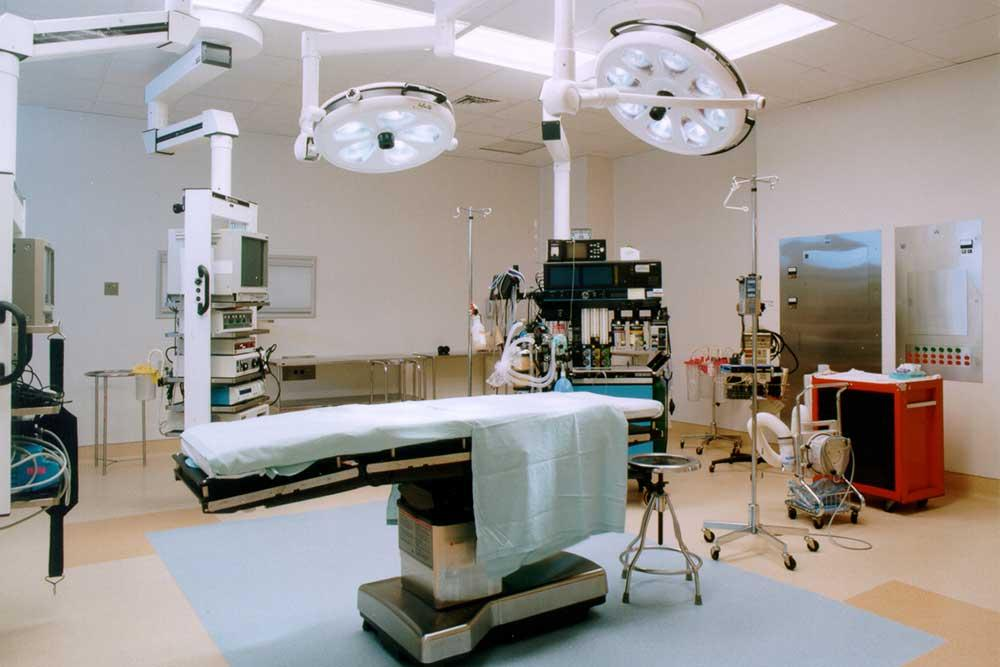Saline Stand: (704, 165, 818, 580), (445, 193, 495, 400)
bed: (178, 382, 634, 665)
stool: (633, 445, 707, 613)
